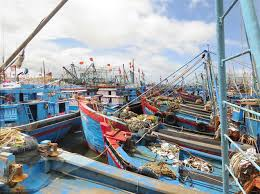tau_dansu: (103, 121, 259, 189), (79, 99, 223, 162), (1, 79, 82, 142), (141, 94, 233, 129)
